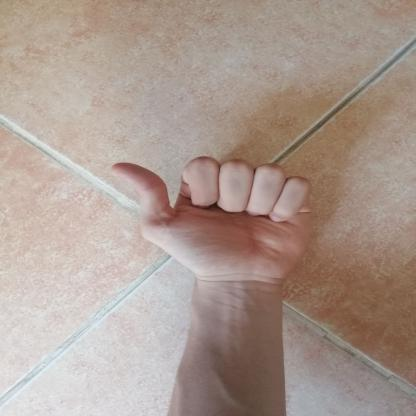DAD: (98, 147, 329, 291)
